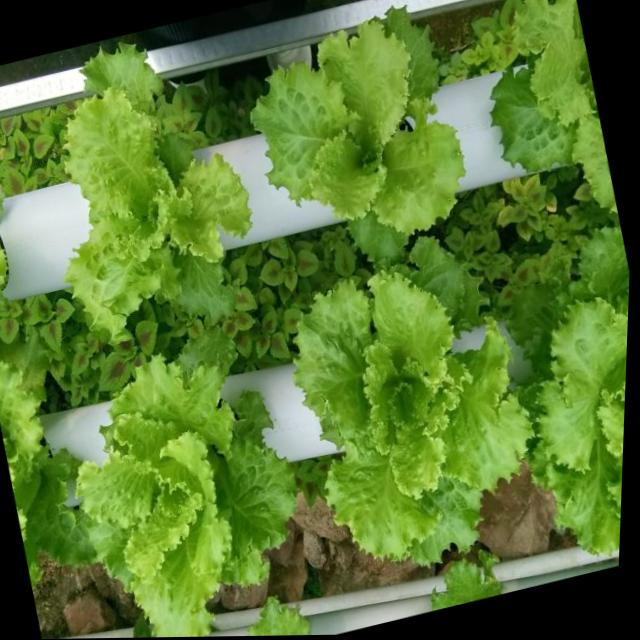Baby: (294, 238, 531, 565), (75, 356, 295, 637), (250, 8, 465, 266), (64, 53, 251, 344)
